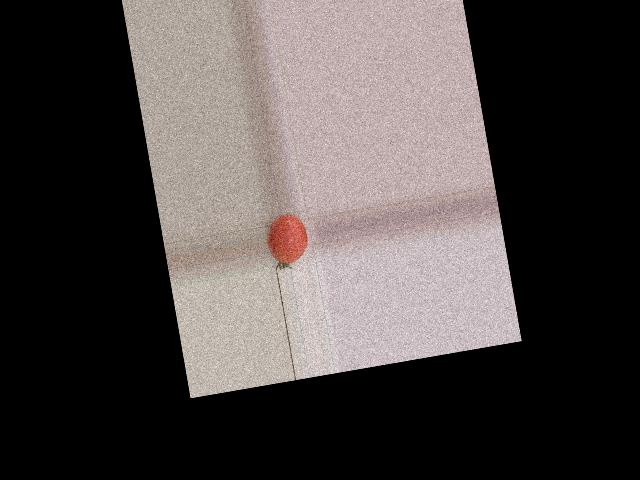tomato: (263, 211, 311, 267)
